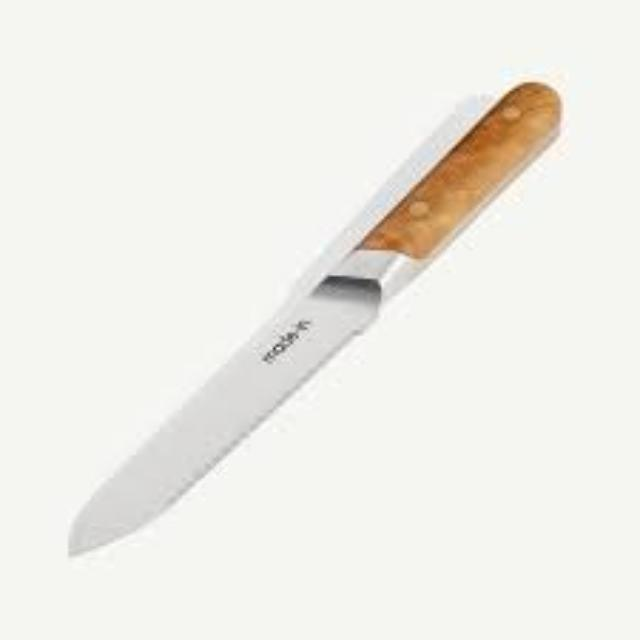knife: (66, 77, 560, 557)
